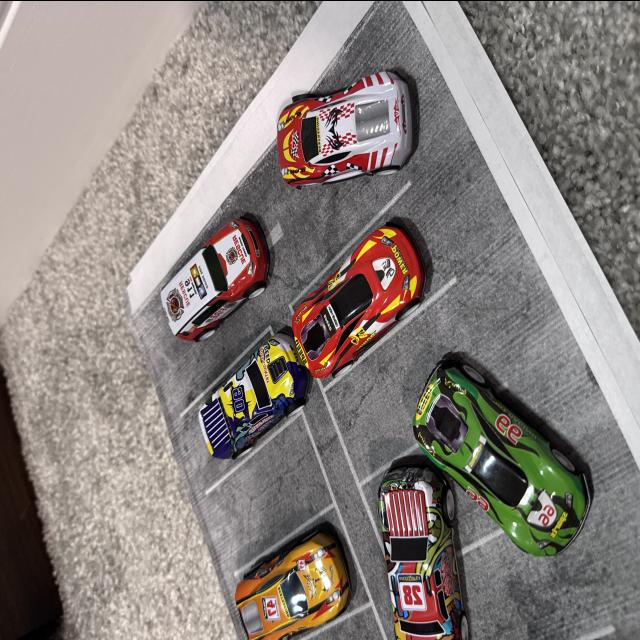car: (404, 338, 609, 640), (291, 178, 438, 417), (174, 308, 322, 522), (356, 451, 494, 640), (155, 192, 287, 348), (196, 524, 350, 640), (262, 61, 402, 176)
